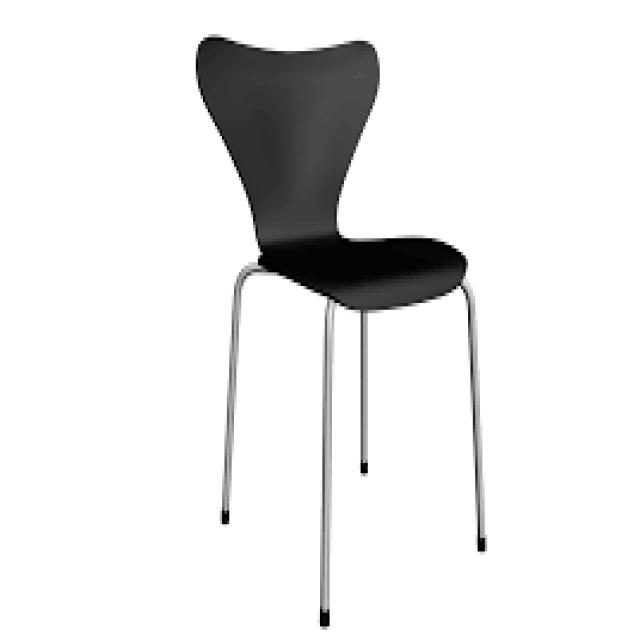chair: (196, 34, 488, 632)
